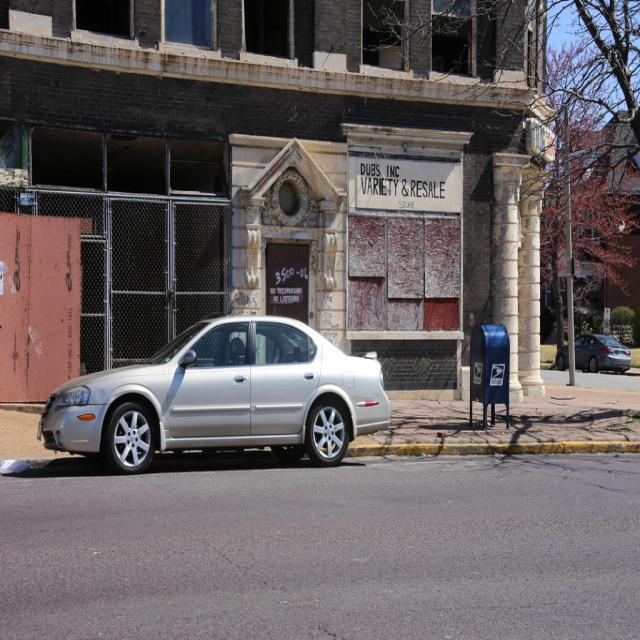car: (35, 309, 391, 472)
